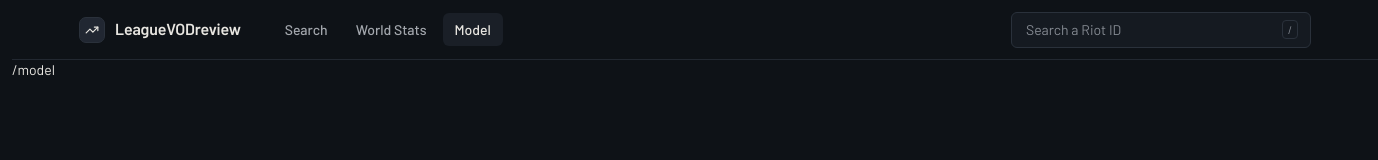
it: TopBar › searches from other pages with the last-used server
The width and height of the screenshot is (1378, 160).
In the field labelled "Riot ID": (1149, 30) [1024,12,1274,46], type "Mimic#NA1"
Then press Enter
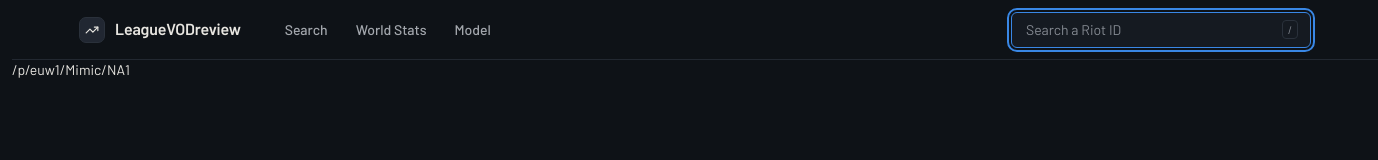
Check: the text with test id "where" reads "/p/euw1/Mimic/NA1", box [12,61,130,78]
